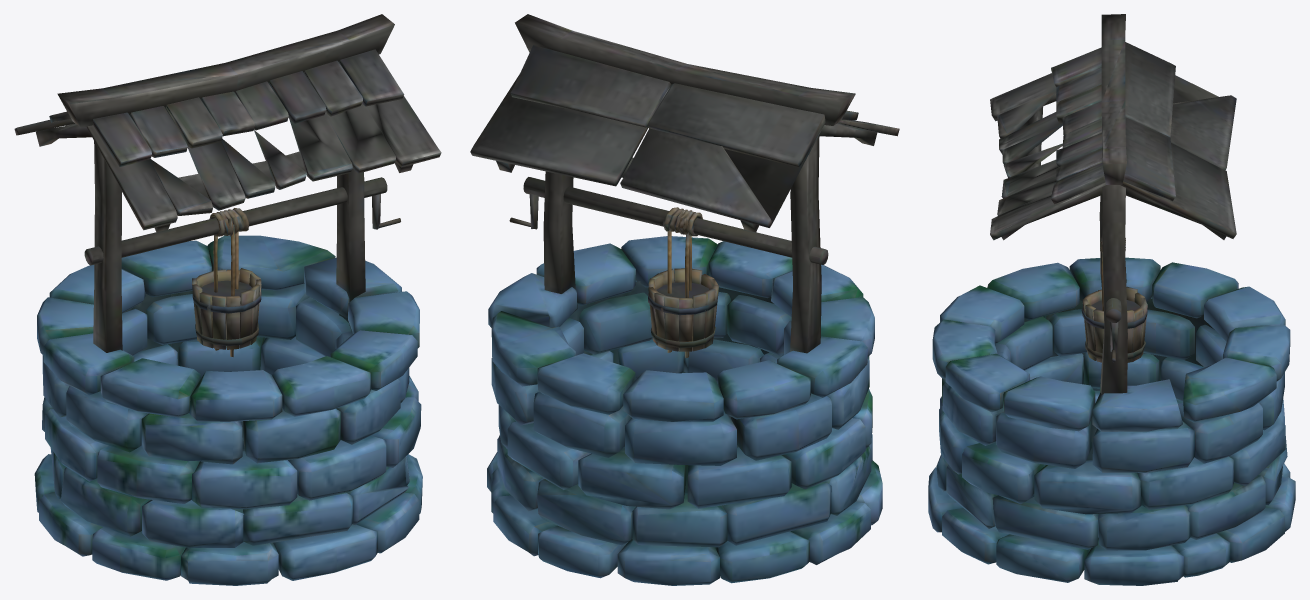
The picture shows the model from 3 angles, left to right: view 1: azimuth 30°, elevation 25°; view 2: azimuth 150°, elevation 25°; view 3: azimuth 270°, elevation 25°; orthographic projection. The views are drawn at different scales.
Parts seen in each view (by area): view 1: tripo_node_a4cffb6c-85e2-4b72-bde4-fee24b78f86d; view 2: tripo_node_a4cffb6c-85e2-4b72-bde4-fee24b78f86d; view 3: tripo_node_a4cffb6c-85e2-4b72-bde4-fee24b78f86d.
Boxes of the visible parts, box(x1,y1,x2,y2) form: tripo_node_a4cffb6c-85e2-4b72-bde4-fee24b78f86d: box(14, 14, 441, 585); tripo_node_a4cffb6c-85e2-4b72-bde4-fee24b78f86d: box(470, 14, 899, 585); tripo_node_a4cffb6c-85e2-4b72-bde4-fee24b78f86d: box(928, 14, 1295, 585).
Bounding box in the file's own units: 0.7988 × 0.998 × 0.791.
1 material, 1 textured.
